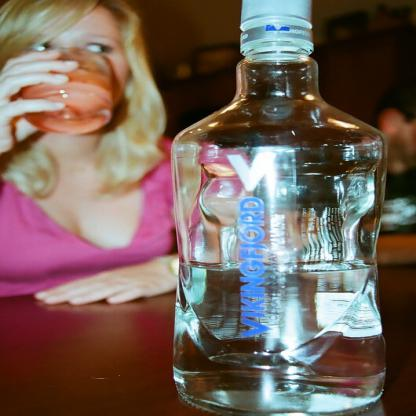drinking: (172, 0, 388, 415)
